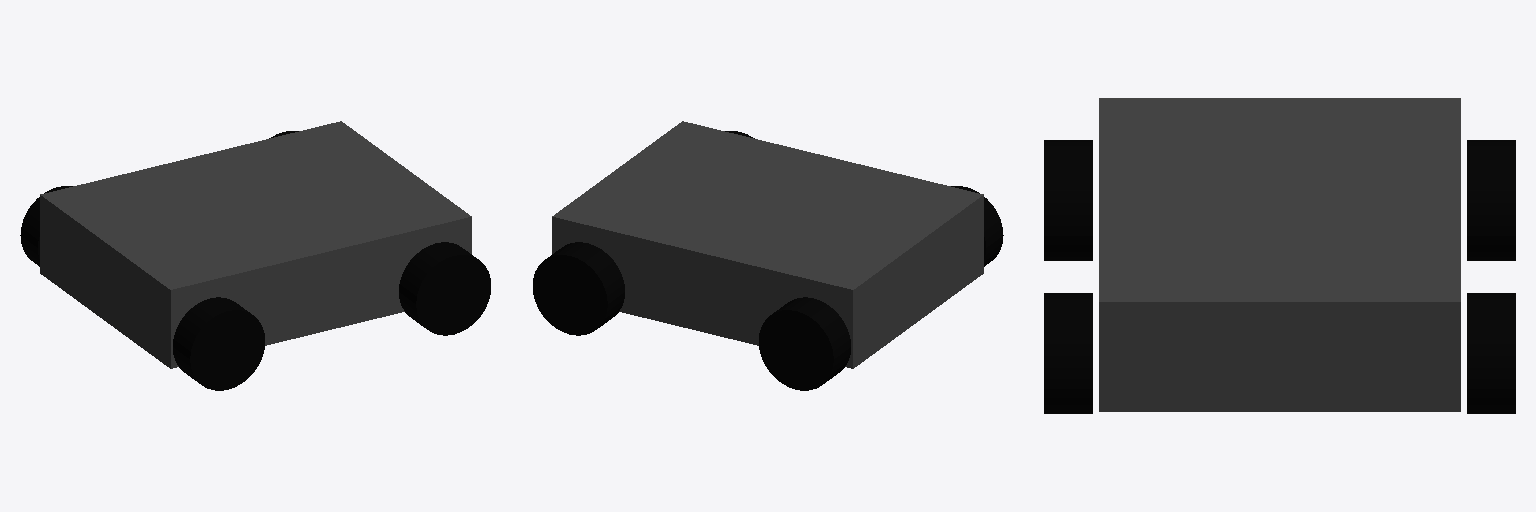
URDF robot description (omni_robot):
<?xml version="1.0"?>
<robot name="omni_robot">

  <!-- ================= MATERIALS ================= -->
  <material name="body_grey">
    <color rgba="0.3 0.3 0.3 1.0"/>
  </material>
  <material name="wheel_black">
    <color rgba="0.05 0.05 0.05 1.0"/>
  </material>

  <!-- ================= BASE FOOTPRINT ================= -->
  <link name="base_footprint"/>

  <joint name="base_footprint_joint" type="fixed">
    <parent link="base_footprint"/>
    <child link="base_link"/>
    <origin xyz="0 0 0.07" rpy="0 0 0"/>
  </joint>

  <!-- ================= BASE LINK ================= -->
  <link name="base_link">
    <visual>
      <origin xyz="0 0 0" rpy="0 0 0"/>
      <geometry>
        <box size="0.40 0.30 0.10"/>
      </geometry>
      <material name="body_grey"/>
    </visual>
    <collision>
      <origin xyz="0 0 0" rpy="0 0 0"/>
      <geometry>
        <box size="0.40 0.30 0.10"/>
      </geometry>
    </collision>
    <inertial>
      <mass value="5.0"/>
      <origin xyz="0 0 0"/>
      <inertia ixx="0.0517" ixy="0" ixz="0" iyy="0.0850" iyz="0" izz="0.1208"/>
    </inertial>
  </link>

  <!-- ================= WHEEL MACRO (manually expanded) ================= -->
  <!-- Wheel positions (mecanum layout):
       front_left  ( 0.15,  0.175, 0)
       front_right ( 0.15, -0.175, 0)
       rear_left   (-0.15,  0.175, 0)
       rear_right  (-0.15, -0.175, 0)
  -->

  <!-- FRONT LEFT WHEEL -->
  <link name="front_left_wheel">
    <visual>
      <origin xyz="0 0 0" rpy="1.5708 0 0"/>
      <geometry>
        <cylinder radius="0.05" length="0.04"/>
      </geometry>
      <material name="wheel_black"/>
    </visual>
    <collision>
      <origin xyz="0 0 0" rpy="1.5708 0 0"/>
      <geometry>
        <cylinder radius="0.05" length="0.04"/>
      </geometry>
    </collision>
    <inertial>
      <mass value="0.5"/>
      <origin xyz="0 0 0"/>
      <inertia ixx="0.0003" ixy="0" ixz="0" iyy="0.0003" iyz="0" izz="0.0006"/>
    </inertial>
  </link>
  <joint name="front_left_wheel_joint" type="continuous">
    <parent link="base_link"/>
    <child link="front_left_wheel"/>
    <origin xyz="0.15 0.175 -0.02" rpy="0 0 0"/>
    <axis xyz="0 1 0"/>
  </joint>

  <!-- FRONT RIGHT WHEEL -->
  <link name="front_right_wheel">
    <visual>
      <origin xyz="0 0 0" rpy="1.5708 0 0"/>
      <geometry>
        <cylinder radius="0.05" length="0.04"/>
      </geometry>
      <material name="wheel_black"/>
    </visual>
    <collision>
      <origin xyz="0 0 0" rpy="1.5708 0 0"/>
      <geometry>
        <cylinder radius="0.05" length="0.04"/>
      </geometry>
    </collision>
    <inertial>
      <mass value="0.5"/>
      <origin xyz="0 0 0"/>
      <inertia ixx="0.0003" ixy="0" ixz="0" iyy="0.0003" iyz="0" izz="0.0006"/>
    </inertial>
  </link>
  <joint name="front_right_wheel_joint" type="continuous">
    <parent link="base_link"/>
    <child link="front_right_wheel"/>
    <origin xyz="0.15 -0.175 -0.02" rpy="0 0 0"/>
    <axis xyz="0 1 0"/>
  </joint>

  <!-- REAR LEFT WHEEL -->
  <link name="rear_left_wheel">
    <visual>
      <origin xyz="0 0 0" rpy="1.5708 0 0"/>
      <geometry>
        <cylinder radius="0.05" length="0.04"/>
      </geometry>
      <material name="wheel_black"/>
    </visual>
    <collision>
      <origin xyz="0 0 0" rpy="1.5708 0 0"/>
      <geometry>
        <cylinder radius="0.05" length="0.04"/>
      </geometry>
    </collision>
    <inertial>
      <mass value="0.5"/>
      <origin xyz="0 0 0"/>
      <inertia ixx="0.0003" ixy="0" ixz="0" iyy="0.0003" iyz="0" izz="0.0006"/>
    </inertial>
  </link>
  <joint name="rear_left_wheel_joint" type="continuous">
    <parent link="base_link"/>
    <child link="rear_left_wheel"/>
    <origin xyz="-0.15 0.175 -0.02" rpy="0 0 0"/>
    <axis xyz="0 1 0"/>
  </joint>

  <!-- REAR RIGHT WHEEL -->
  <link name="rear_right_wheel">
    <visual>
      <origin xyz="0 0 0" rpy="1.5708 0 0"/>
      <geometry>
        <cylinder radius="0.05" length="0.04"/>
      </geometry>
      <material name="wheel_black"/>
    </visual>
    <collision>
      <origin xyz="0 0 0" rpy="1.5708 0 0"/>
      <geometry>
        <cylinder radius="0.05" length="0.04"/>
      </geometry>
    </collision>
    <inertial>
      <mass value="0.5"/>
      <origin xyz="0 0 0"/>
      <inertia ixx="0.0003" ixy="0" ixz="0" iyy="0.0003" iyz="0" izz="0.0006"/>
    </inertial>
  </link>
  <joint name="rear_right_wheel_joint" type="continuous">
    <parent link="base_link"/>
    <child link="rear_right_wheel"/>
    <origin xyz="-0.15 -0.175 -0.02" rpy="0 0 0"/>
    <axis xyz="0 1 0"/>
  </joint>

  <!-- ================= GAZEBO (gz-sim / Harmonic) PLUGINS ================= -->

  <!-- Mecanum drive: converts a Twist on /cmd_vel (linear.x, linear.y, angular.z)
       into individual wheel velocities, giving true omnidirectional motion. -->
  <gazebo>
    <plugin filename="gz-sim-mecanum-drive-system"
            name="gz::sim::systems::MecanumDrive">
      <front_left_joint>front_left_wheel_joint</front_left_joint>
      <front_right_joint>front_right_wheel_joint</front_right_joint>
      <back_left_joint>rear_left_wheel_joint</back_left_joint>
      <back_right_joint>rear_right_wheel_joint</back_right_joint>
      <wheel_separation>0.35</wheel_separation>
      <wheelbase>0.30</wheelbase>
      <wheel_radius>0.05</wheel_radius>
      <topic>cmd_vel</topic>
      <odom_topic>odom</odom_topic>
      <frame_id>odom</frame_id>
      <child_frame_id>base_footprint</child_frame_id>
      <odom_publish_frequency>50</odom_publish_frequency>
      <tf_topic>tf</tf_topic>
    </plugin>
  </gazebo>

  <!-- Publish joint states so RViz / other tools can visualize wheel spin -->
  <gazebo>
    <plugin filename="gz-sim-joint-state-publisher-system"
            name="gz::sim::systems::JointStatePublisher">
    </plugin>
  </gazebo>

  <!-- Publish the robot's pose on /tf and /pose -->
  <gazebo>
    <plugin filename="gz-sim-pose-publisher-system"
            name="gz::sim::systems::PosePublisher">
      <publish_link_pose>true</publish_link_pose>
      <use_pose_vector_msg>true</use_pose_vector_msg>
      <static_publisher>true</static_publisher>
      <static_update_frequency>1</static_update_frequency>
    </plugin>
  </gazebo>

  <!-- Wheel friction (helps mecanum rollers behave reasonably even though
       true angled rollers aren't modeled geometrically here) -->
  <gazebo reference="front_left_wheel">
    <mu1>0.6</mu1>
    <mu2>0.6</mu2>
  </gazebo>
  <gazebo reference="front_right_wheel">
    <mu1>0.6</mu1>
    <mu2>0.6</mu2>
  </gazebo>
  <gazebo reference="rear_left_wheel">
    <mu1>0.6</mu1>
    <mu2>0.6</mu2>
  </gazebo>
  <gazebo reference="rear_right_wheel">
    <mu1>0.6</mu1>
    <mu2>0.6</mu2>
  </gazebo>

</robot>

--- Render facts (derived) ---
3 views of the same robot in one strip: view 1: azimuth 30°, elevation 25°; view 2: azimuth 150°, elevation 25°; view 3: azimuth 270°, elevation 25° (orthographic).
Robot: omni_robot — 6 links, 5 joints (4 continuous, 1 fixed); root link base_footprint; default pose: all joints at 0.
Visible links, largest first — view 1: base_link, rear_right_wheel, front_right_wheel, rear_left_wheel; view 2: base_link, rear_left_wheel, front_left_wheel, rear_right_wheel; view 3: base_link, front_left_wheel, front_right_wheel, rear_left_wheel, rear_right_wheel.
Link boxes in pixels (x1,y1,x2,y2): base_link: (40,121,471,368); rear_right_wheel: (173,297,264,390); front_right_wheel: (399,242,490,335); rear_left_wheel: (20,186,72,266); base_link: (552,121,983,368); rear_left_wheel: (759,297,850,390); front_left_wheel: (533,242,624,335); rear_right_wheel: (951,186,1003,266); base_link: (1099,98,1460,411); front_left_wheel: (1467,293,1515,413); front_right_wheel: (1044,293,1092,413); rear_left_wheel: (1467,140,1515,260); rear_right_wheel: (1044,140,1092,260).
Size in the robot's own frame: 0.4 by 0.39 by 0.12 metres.
Geometry: primitives only (box / cylinder / sphere), no mesh files.
